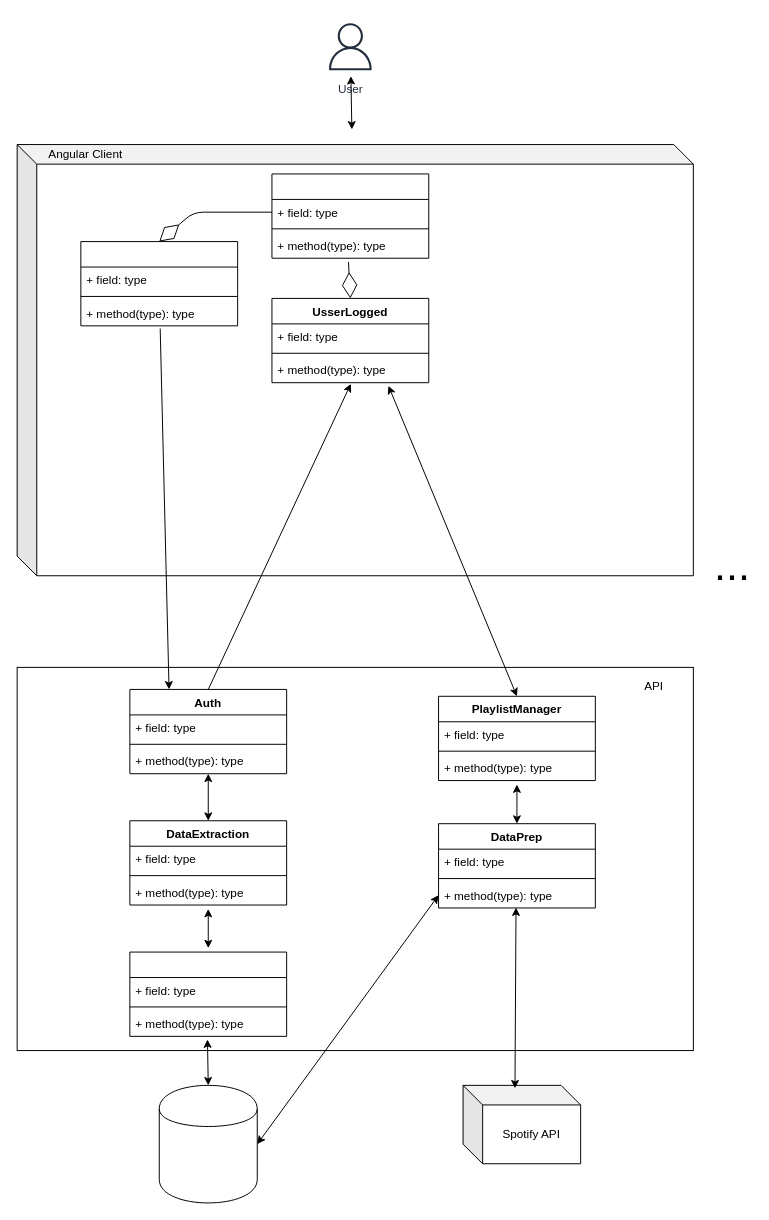
Some shapes in this 769 by 1220 pixel diagram are drawn without their labels. Each missing label, with the box of its shape:
App Component: (271, 173, 429, 258)
Database: (158, 1084, 257, 1203)
DbSaving: (129, 951, 287, 1036)
Login Component: (80, 241, 238, 326)
